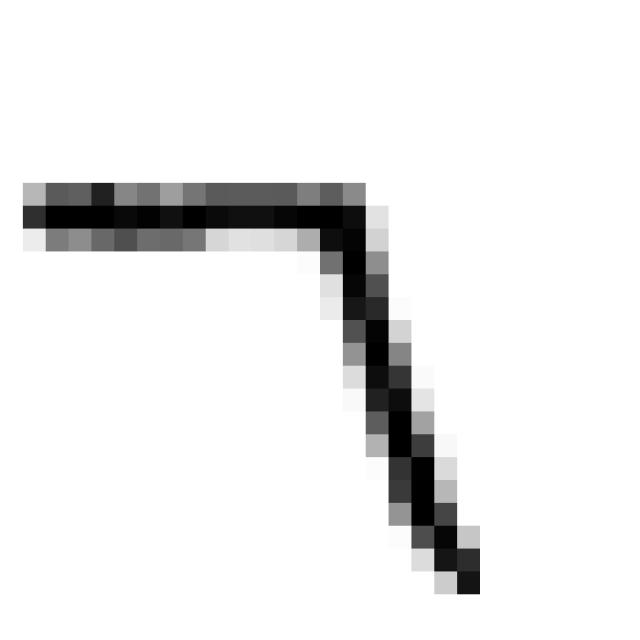6 -six-: (5, 158, 503, 614)
